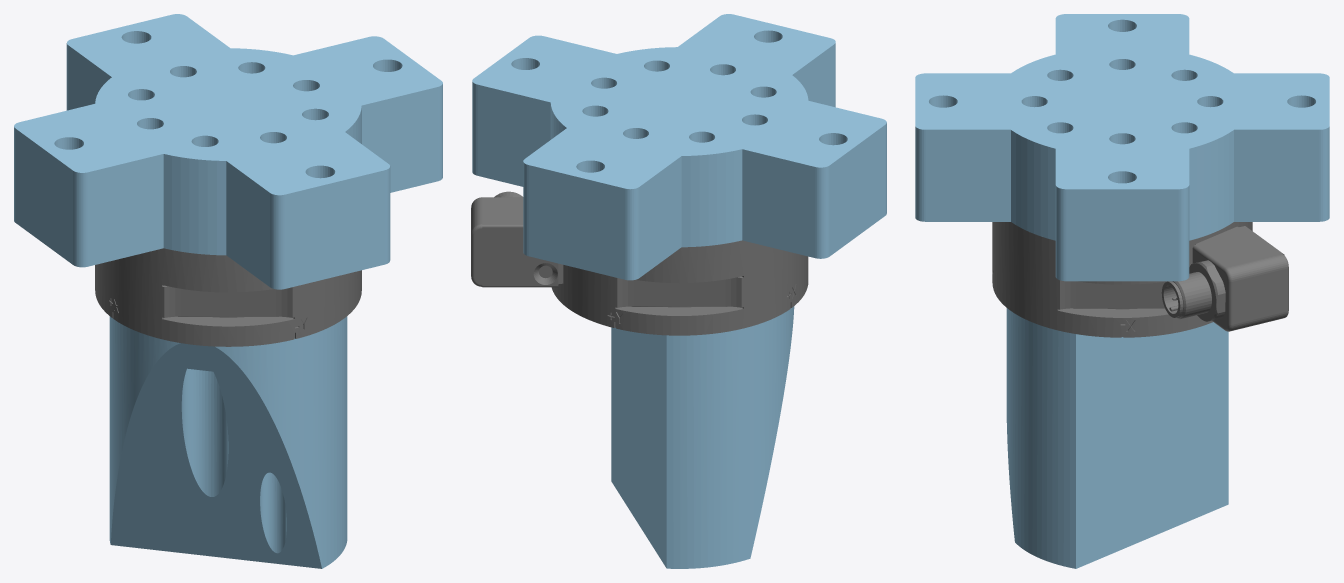
File: CombinedLineEndEffector.dae
The picture shows the model from 3 angles, left to right: view 1: azimuth 30°, elevation 25°; view 2: azimuth 150°, elevation 25°; view 3: azimuth 270°, elevation 25°; orthographic projection. The views are drawn at different scales.
Visible parts, largest first — view 1: Part 1 (×4); view 2: Part 1 (×4), Part 2; view 3: Part 1 (×4), Part 2.
Boxes of the visible parts, <box> form: Part 1 (×4): <box>14,14,442,568</box>; Part 1 (×4): <box>472,14,886,568</box>; Part 2: <box>471,191,563,287</box>; Part 1 (×4): <box>915,14,1329,568</box>; Part 2: <box>1161,226,1288,331</box>.
Size of the model in its own units: 0.118 by 0.118 by 0.1327.
